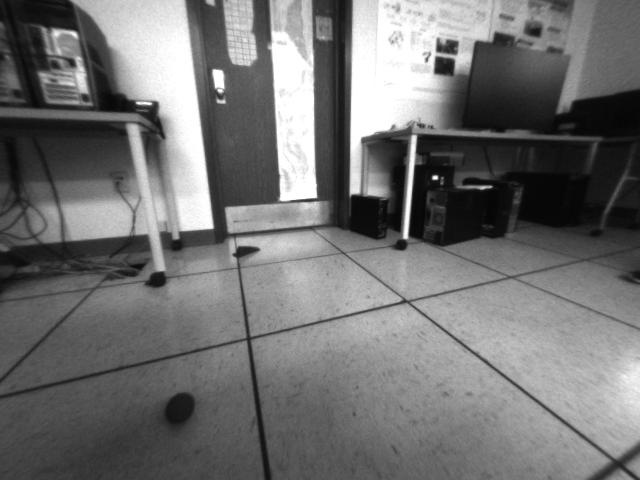dogtoy: (156, 382, 202, 432)
